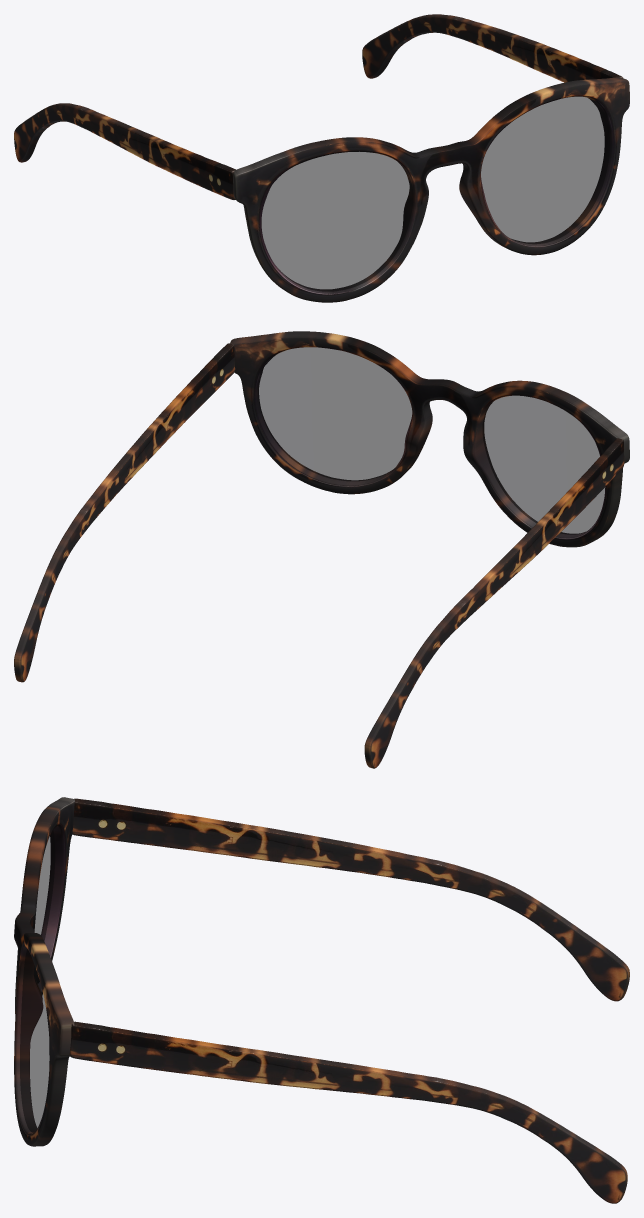
File: The Heritage.glb
The picture shows the model from 3 angles, top to bottom: view 1: azimuth 30°, elevation 25°; view 2: azimuth 150°, elevation 25°; view 3: azimuth 270°, elevation 25°; orthographic projection. The views are drawn at different scales.
Visible parts, largest first — view 1: lenses_0, front_3, side_1, side_02_2; view 2: lenses_0, front_3, side_02_2, side_1; view 3: side_02_2, side_1, front_3, lenses_0.
Boxes of the visible parts, x1,y1,x2,y2 form: lenses_0: [261, 96, 609, 291]; front_3: [233, 77, 629, 302]; side_1: [362, 14, 622, 82]; side_02_2: [14, 103, 235, 199]; lenses_0: [258, 347, 604, 534]; front_3: [230, 331, 629, 547]; side_02_2: [364, 438, 624, 768]; side_1: [14, 343, 235, 682]; side_02_2: [72, 798, 629, 1001]; side_1: [69, 1021, 627, 1203]; front_3: [14, 797, 74, 1146]; lenses_0: [20, 830, 55, 1132].
Size of the model in its own units: 10.69 by 4.71 by 12.18.
3 materials, 3 textured.
